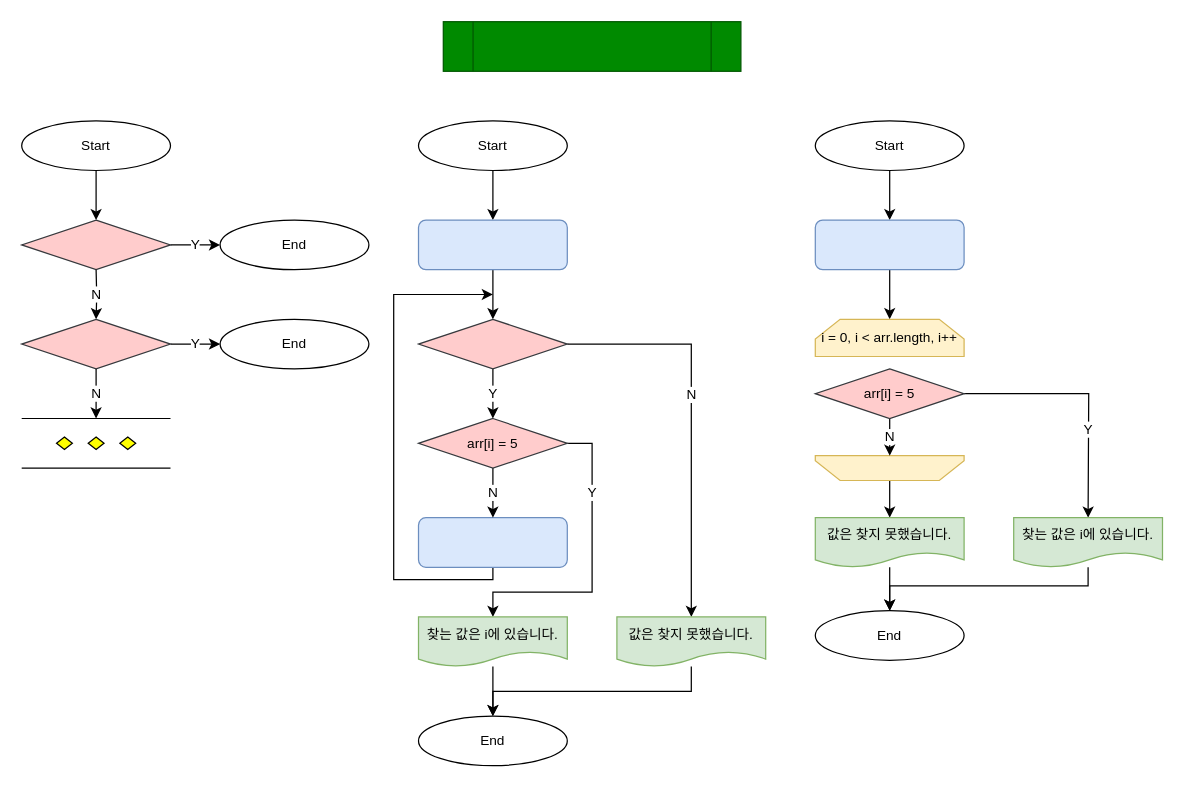
This 1184x787 diagram has some shape labels left out. The shapes that lost their labels are listed below. From the top down, each one's centre as x and y in pixels, then its label:
the point at 591,45: Linear Search
the point at 95,244: arr[0] = 5
the point at 492,244: arr[]<- 데이터 i = 0
the point at 889,244: arr[]<- 데이터
the point at 95,343: arr[1] = 5
the point at 492,343: i < 5
the point at 492,541: i = i + 1
